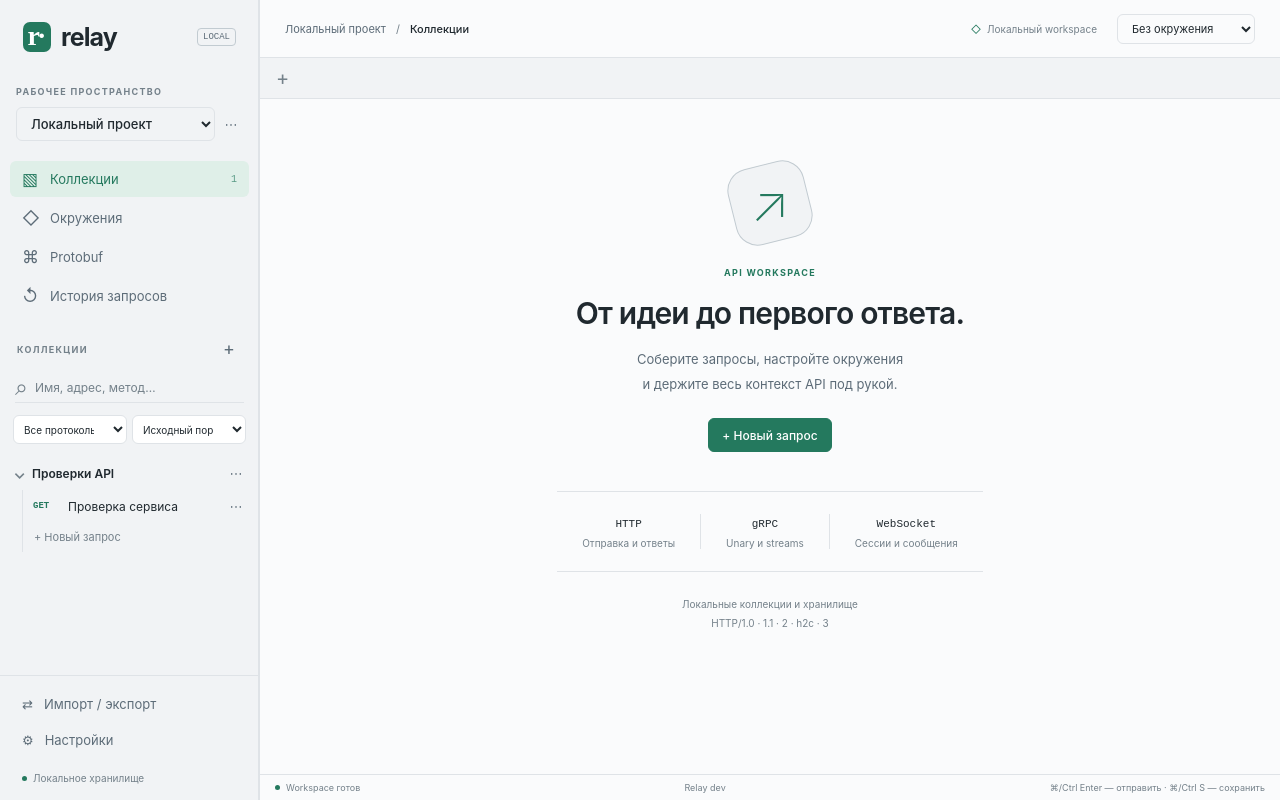
Scenario: desktop workspace › saves validated display and response settings
Click the button "⚙ Настройки". click: (130, 740)
box: [10,722,249,758]
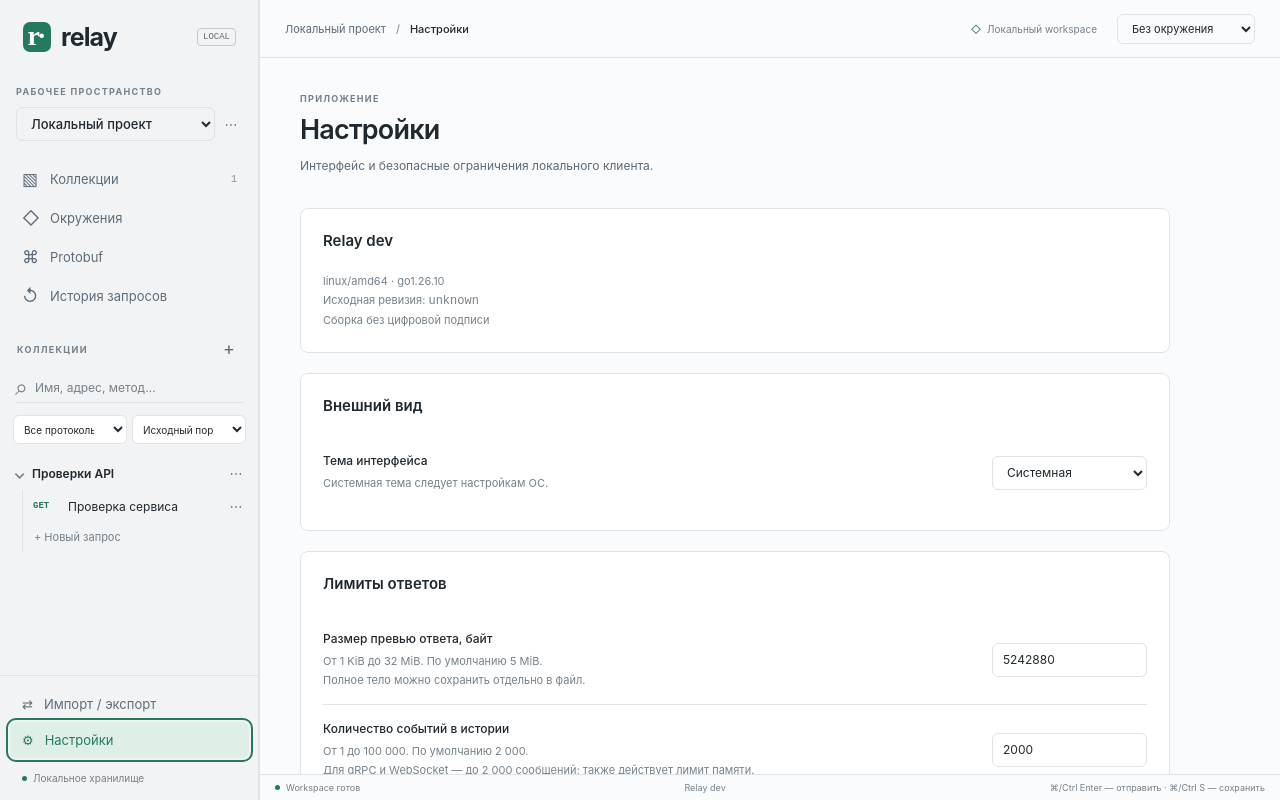
Select "Светлая" in the dropdown named "Тема интерфейса". click: (1070, 472)
box: [992,456,1147,490]
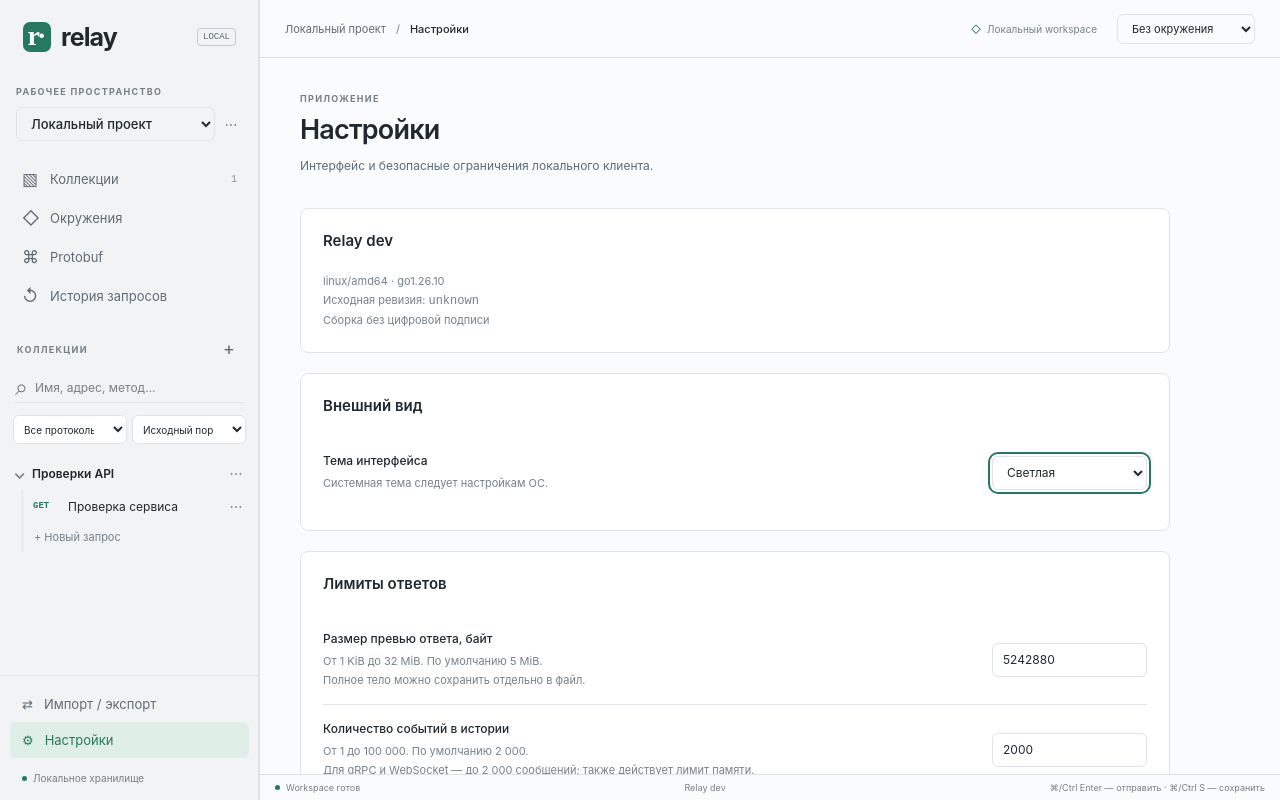
Replace the text in the number field labelled "Количество событий в истории" with "0". click: (1070, 750)
box: [992,733,1147,767]
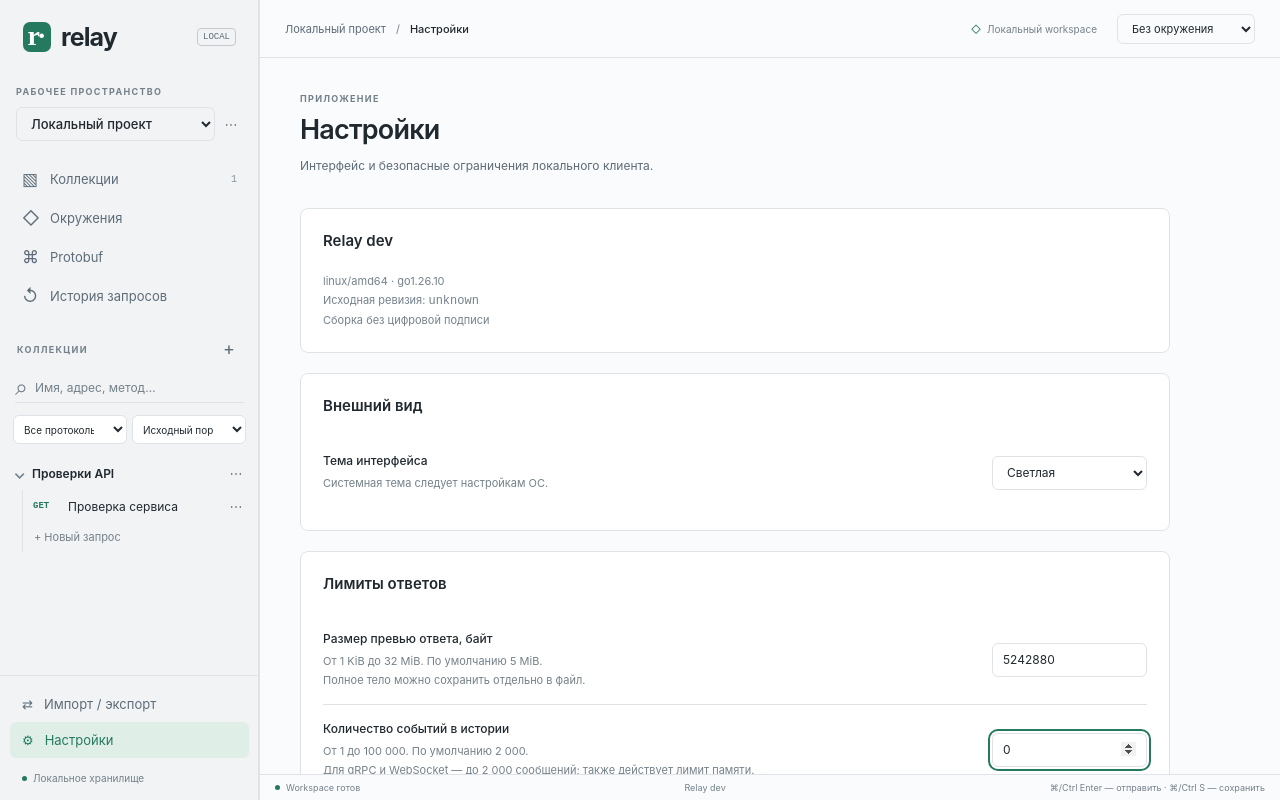
Replace the text in the number field labelled "Количество событий в истории" with "100". click: (1070, 750)
box: [992,733,1147,767]
(page scrolled)
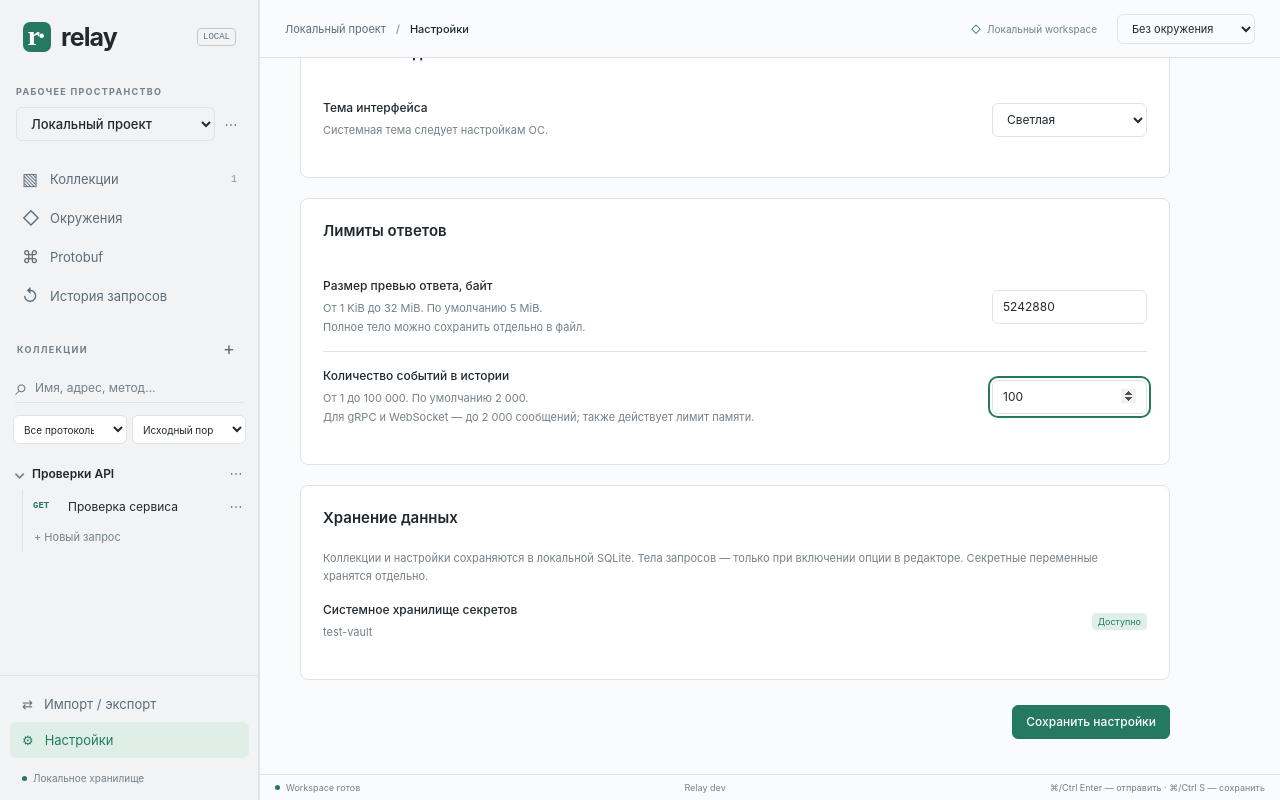
Click the button "Сохранить настройки". click: (1091, 722)
box: [1012,705,1170,739]
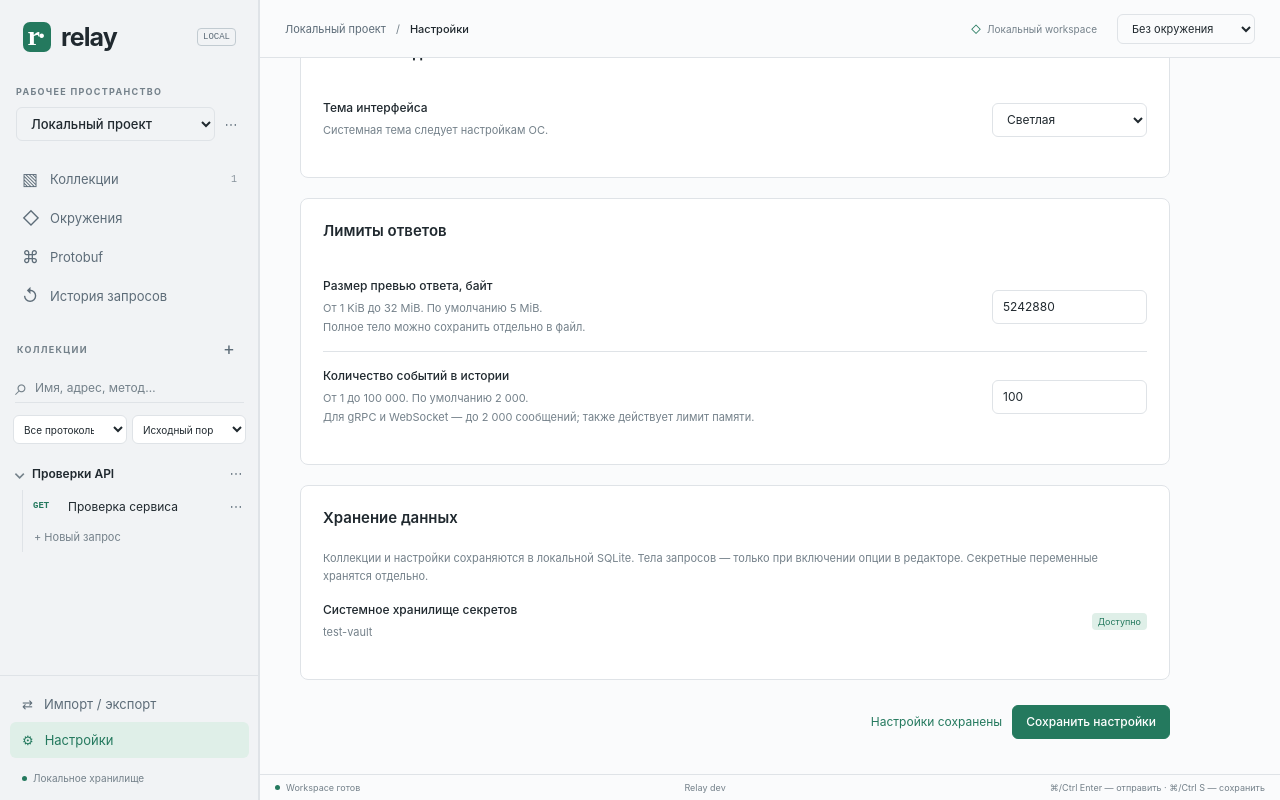
Expected: the text "Настройки сохранены" is shown, [871,714,1002,729]
